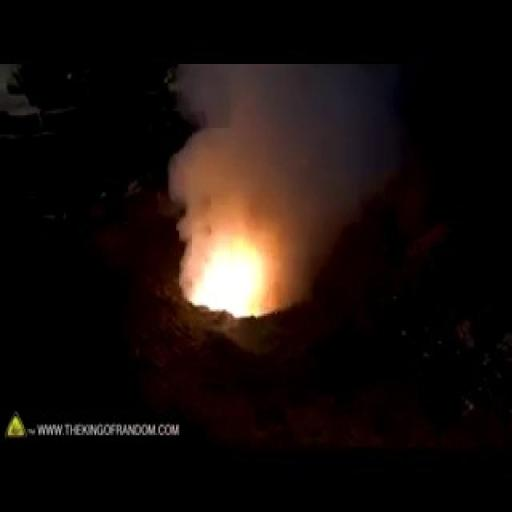smoke: (184, 226, 326, 369)
